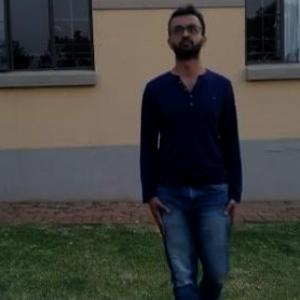follow: (138, 1, 243, 293)
